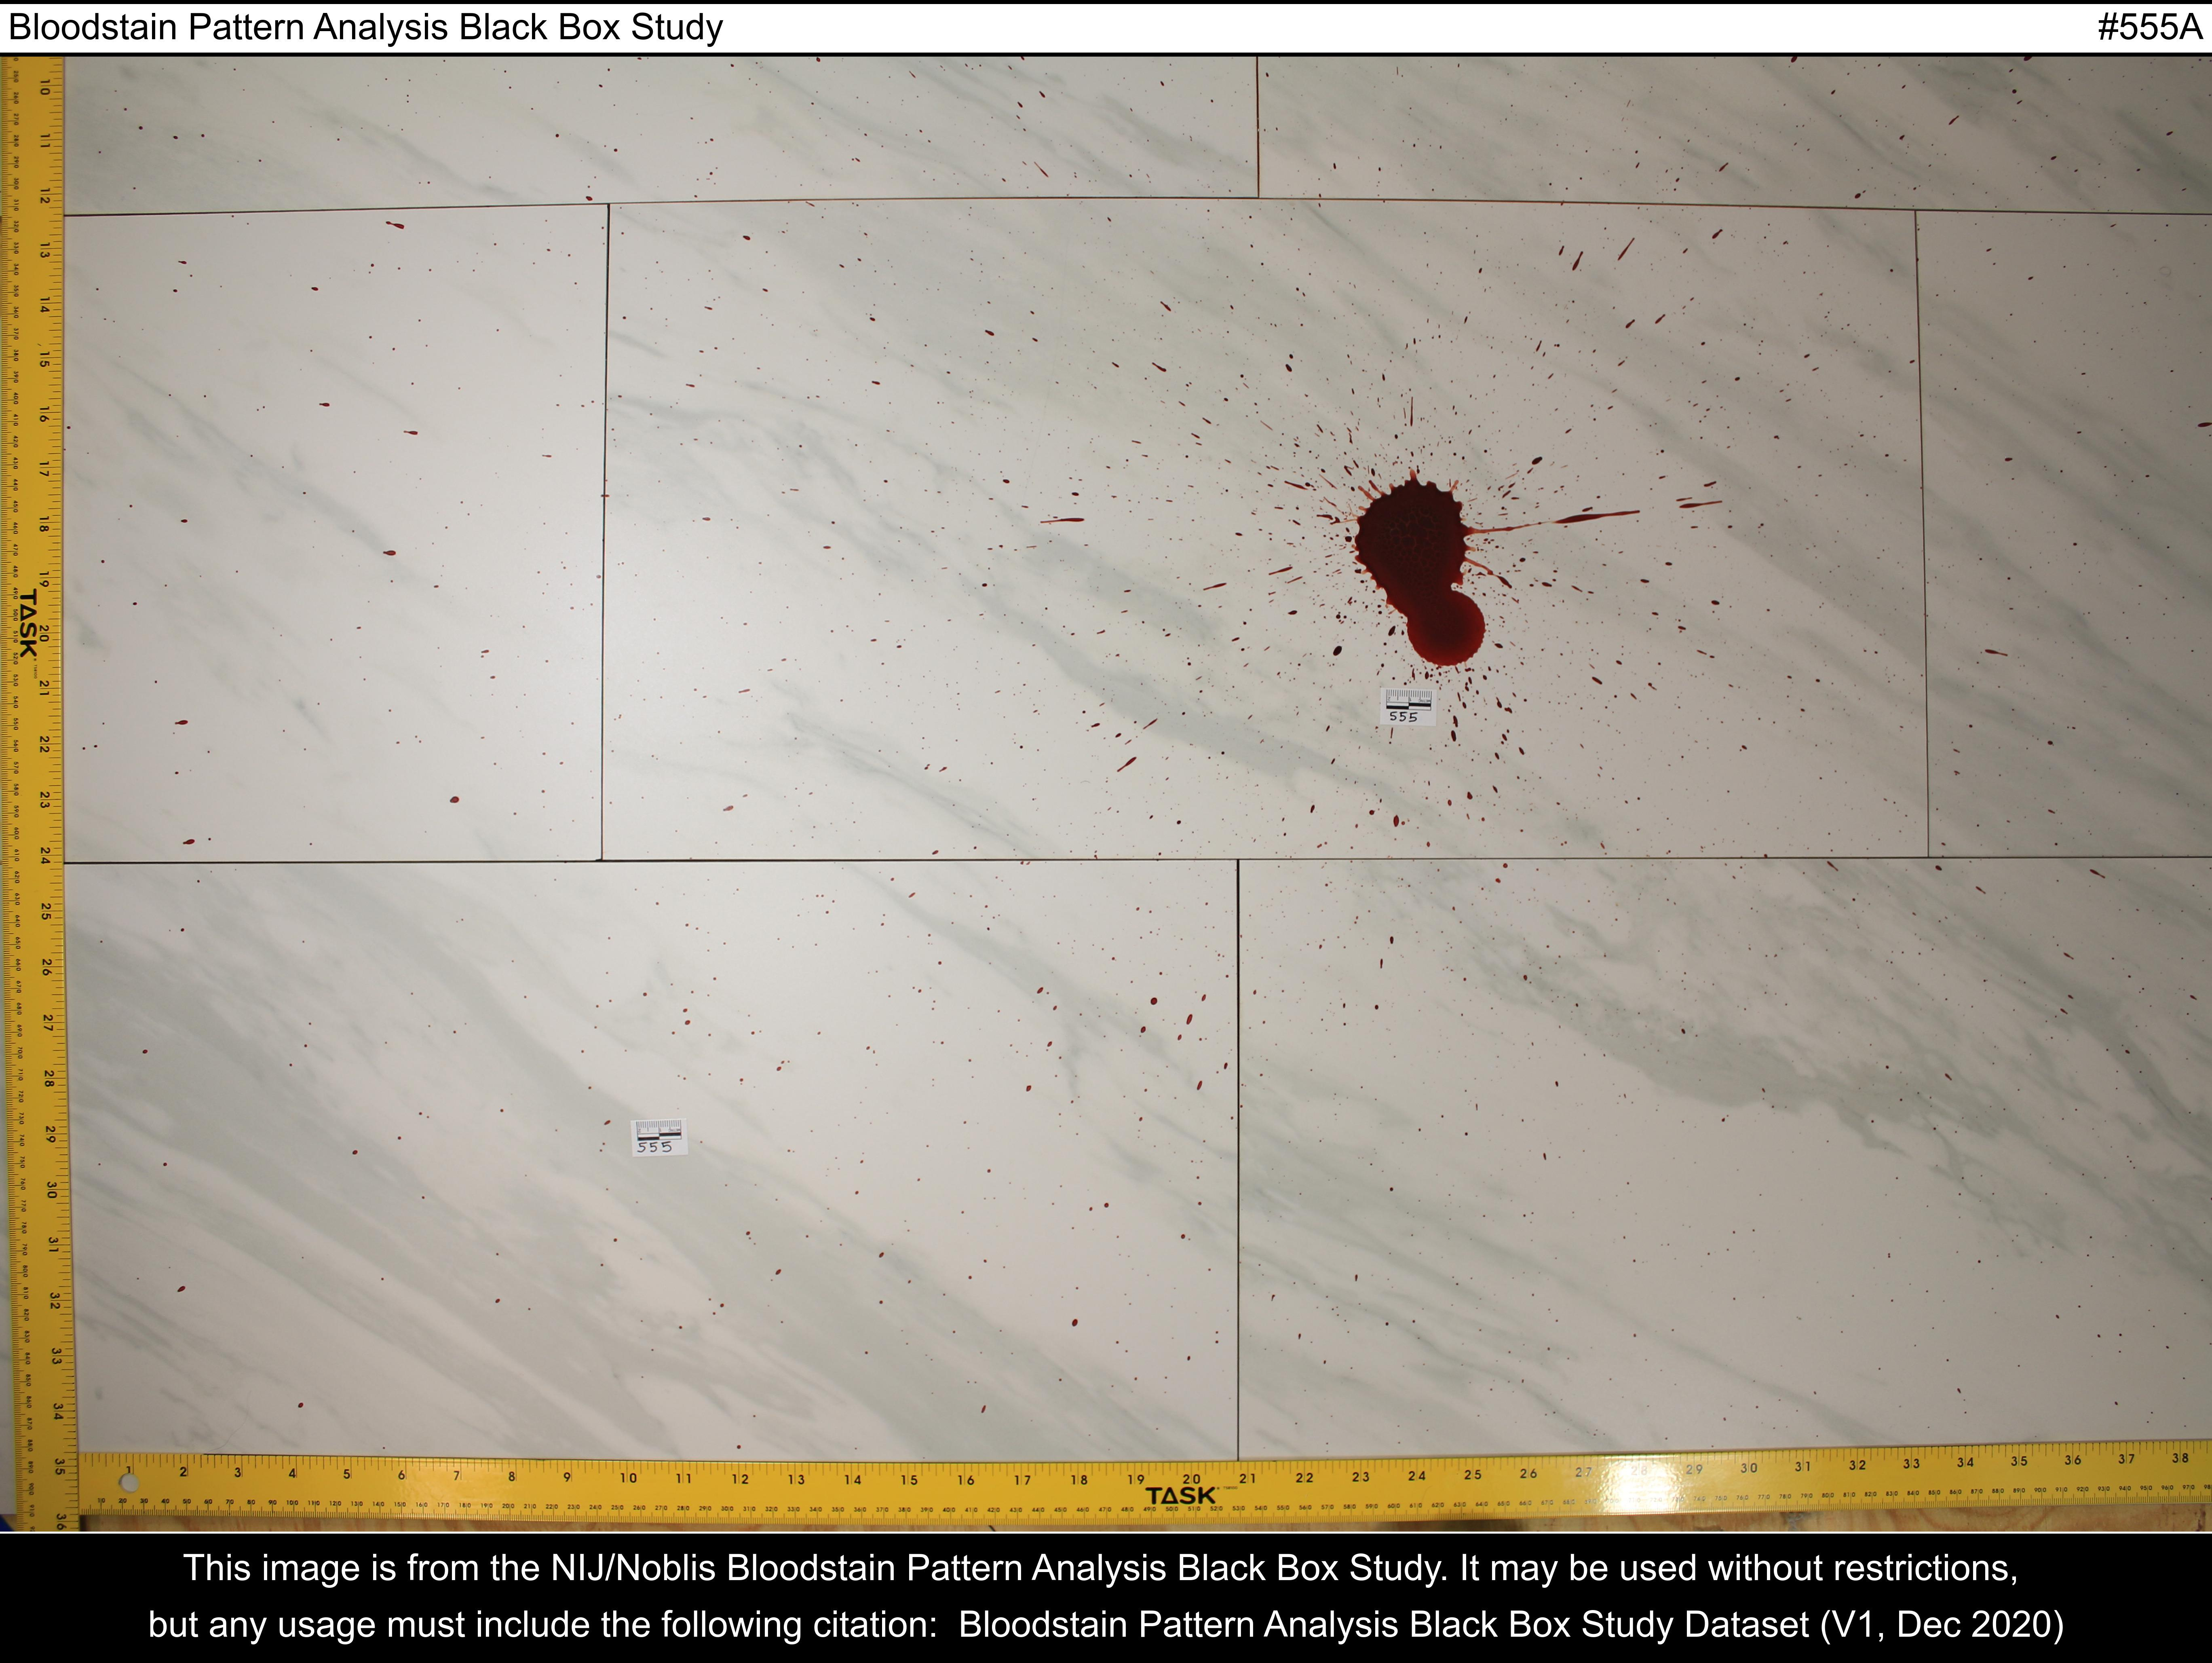Impact: (777, 279, 1236, 837)
Passive: (1306, 379, 1547, 744)
